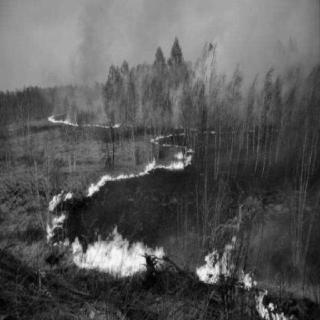Fire: (70, 219, 168, 279), (196, 210, 242, 284), (46, 107, 118, 130), (149, 117, 197, 150), (258, 284, 294, 318)
Smoke: (188, 11, 290, 71)
